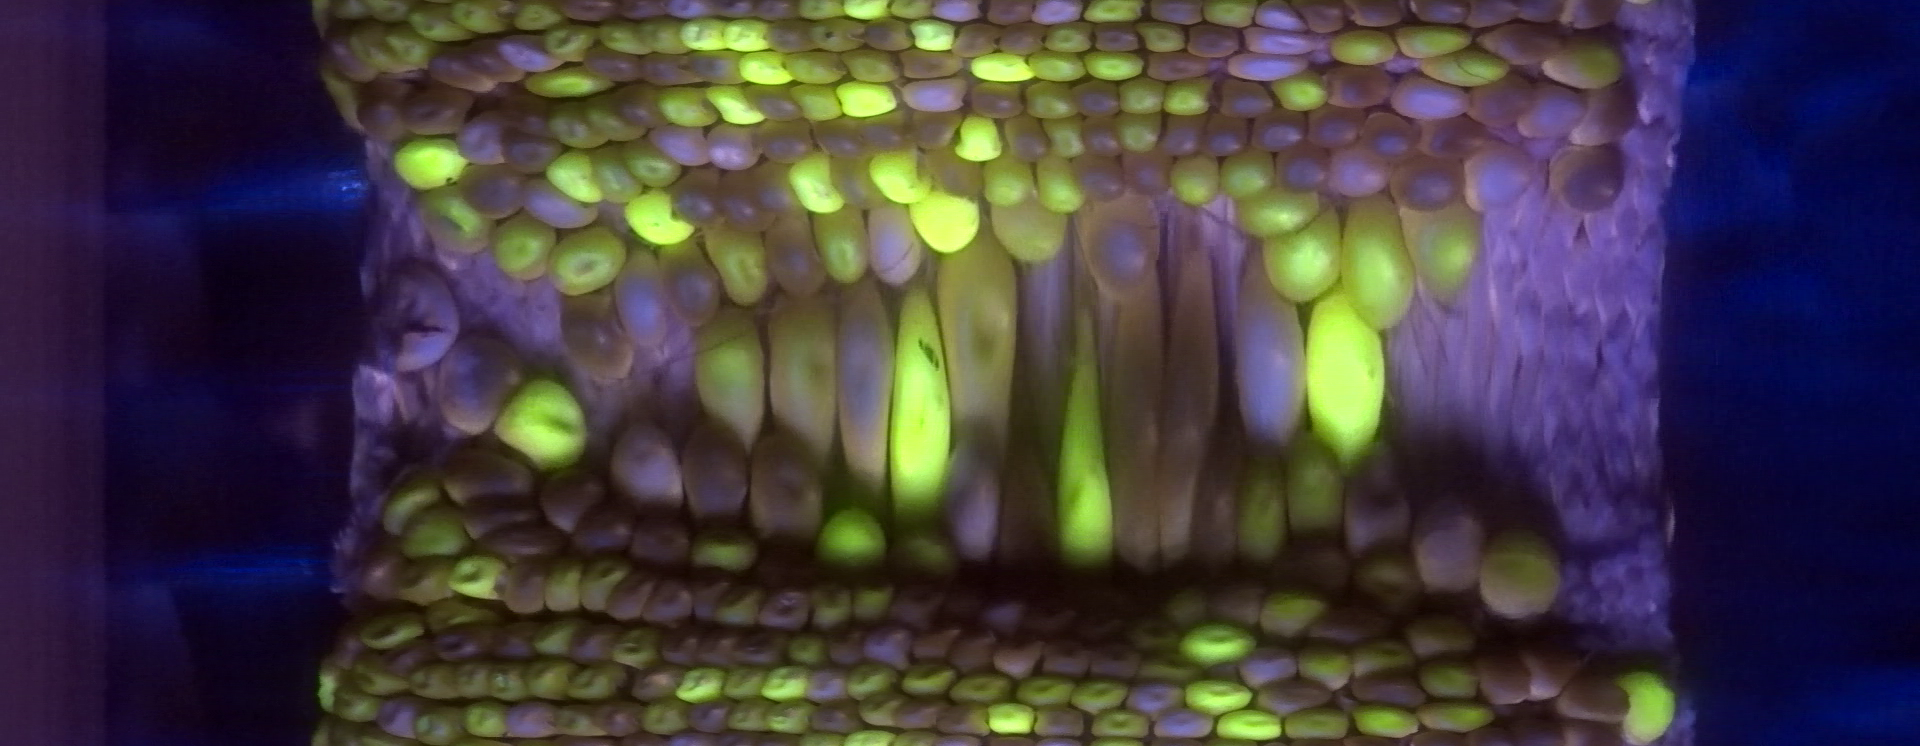fluorescent: (931, 213, 1025, 473), (1299, 279, 1391, 481), (885, 282, 956, 530), (1051, 334, 1122, 578), (760, 285, 849, 472), (689, 305, 778, 452), (1333, 192, 1420, 333), (1396, 195, 1485, 320), (489, 371, 591, 478), (1476, 526, 1570, 628), (1260, 201, 1348, 305), (1282, 428, 1349, 548), (1229, 450, 1296, 570), (697, 218, 773, 311), (539, 223, 629, 300), (413, 183, 504, 258), (811, 503, 895, 584), (984, 191, 1071, 265), (1229, 181, 1330, 243), (482, 207, 560, 285), (1607, 666, 1682, 746), (902, 184, 983, 258), (808, 198, 874, 289), (883, 523, 966, 594), (375, 467, 447, 548), (312, 47, 373, 138), (1540, 29, 1625, 96), (389, 134, 475, 196), (1256, 582, 1335, 649), (864, 142, 942, 209), (620, 186, 698, 251), (1174, 617, 1265, 673), (396, 502, 471, 566), (683, 522, 763, 582), (1416, 42, 1513, 89), (787, 148, 853, 217), (582, 142, 648, 209), (1029, 149, 1092, 219), (538, 145, 610, 206), (389, 549, 467, 605), (613, 134, 686, 191), (444, 549, 514, 608), (1217, 142, 1282, 205), (577, 91, 650, 146), (343, 17, 410, 77), (577, 550, 637, 616), (1164, 148, 1224, 212), (1417, 652, 1484, 708), (978, 148, 1037, 212), (1322, 24, 1401, 72), (700, 78, 771, 131), (420, 595, 507, 638), (1392, 20, 1479, 62), (1414, 696, 1504, 737), (522, 64, 620, 102), (545, 97, 613, 151), (1346, 696, 1425, 741), (356, 606, 430, 655), (1291, 639, 1356, 695), (1347, 632, 1419, 681), (402, 2, 481, 47), (378, 20, 448, 70), (651, 85, 721, 132), (830, 77, 904, 121), (948, 111, 1008, 165), (629, 13, 697, 61), (776, 47, 853, 88), (1180, 676, 1258, 718), (1267, 65, 1331, 115), (563, 659, 633, 704), (347, 650, 411, 698), (1128, 608, 1190, 657), (711, 581, 769, 633), (782, 78, 849, 124), (842, 658, 905, 706), (1160, 583, 1216, 636), (1212, 706, 1289, 744), (1282, 703, 1357, 742), (898, 658, 965, 701), (947, 668, 1020, 707), (538, 22, 602, 66), (593, 17, 659, 60), (1087, 702, 1160, 741), (540, 552, 585, 615), (1010, 673, 1084, 710), (1158, 73, 1220, 119), (1021, 77, 1082, 122), (804, 584, 860, 635), (1068, 675, 1134, 717), (671, 661, 733, 706), (731, 49, 798, 89), (520, 657, 580, 702), (609, 621, 661, 673), (806, 13, 874, 53), (836, 47, 905, 86), (545, 699, 613, 739), (1138, 649, 1212, 685), (1111, 110, 1166, 158), (849, 577, 896, 632), (442, 1, 513, 38), (1022, 48, 1089, 87), (456, 696, 514, 740), (327, 681, 387, 724), (967, 49, 1040, 85), (760, 696, 820, 737), (402, 661, 462, 703), (1114, 73, 1171, 118), (781, 627, 838, 671), (1080, 49, 1152, 83), (983, 696, 1041, 739), (1038, 114, 1091, 160), (718, 15, 775, 56), (309, 660, 351, 715), (484, 657, 533, 704), (853, 688, 911, 729), (757, 660, 814, 701), (410, 702, 463, 746), (530, 619, 585, 660), (905, 16, 961, 56), (507, 1, 576, 34), (637, 696, 692, 736), (1038, 20, 1098, 56), (449, 659, 496, 706), (1131, 20, 1190, 56), (675, 15, 731, 53), (722, 696, 776, 734), (720, 659, 769, 701), (1198, 1, 1259, 31), (1078, 1, 1147, 27), (359, 1, 413, 26), (793, 1, 851, 23), (836, 1, 894, 23), (839, 728, 904, 746), (887, 1, 937, 23)
nonfluorescent: (1231, 251, 1313, 463), (827, 269, 899, 500), (936, 418, 1011, 575), (1067, 191, 1168, 299), (432, 333, 529, 441), (747, 426, 827, 548), (600, 418, 691, 521), (1332, 457, 1414, 565), (1406, 496, 1488, 604), (673, 416, 754, 526), (553, 287, 636, 386), (654, 227, 726, 338), (609, 243, 678, 352), (436, 442, 536, 514), (757, 205, 834, 296), (1456, 141, 1538, 216), (860, 194, 924, 288), (1378, 152, 1469, 216), (1545, 138, 1625, 212), (350, 67, 420, 149), (533, 463, 611, 535), (396, 70, 471, 142), (1460, 638, 1534, 709), (451, 157, 531, 222), (1567, 78, 1640, 149), (517, 171, 602, 229), (1382, 70, 1476, 122), (1469, 20, 1569, 69), (470, 521, 572, 568), (422, 39, 502, 99), (1515, 76, 1587, 141), (1551, 670, 1632, 728), (624, 516, 696, 581), (1322, 142, 1393, 205), (1456, 70, 1537, 124), (1412, 110, 1494, 163), (571, 501, 638, 565), (1266, 138, 1338, 196), (640, 118, 715, 173), (718, 167, 778, 235), (454, 492, 542, 539), (489, 24, 569, 75), (451, 107, 516, 169), (464, 29, 530, 89), (917, 145, 986, 202), (1356, 105, 1420, 164), (741, 159, 807, 217), (751, 116, 820, 170), (1346, 665, 1427, 712), (1319, 64, 1397, 111), (1520, 641, 1576, 707), (666, 170, 729, 229), (492, 82, 557, 138), (804, 114, 874, 165), (1245, 105, 1310, 160), (493, 126, 564, 176), (349, 541, 408, 601), (601, 566, 661, 625), (828, 154, 889, 212), (1067, 148, 1129, 205), (577, 39, 647, 89), (610, 81, 676, 134), (429, 620, 500, 668), (736, 77, 808, 124), (699, 119, 763, 171), (1298, 100, 1364, 151), (1233, 643, 1304, 690), (1251, 677, 1332, 718), (998, 109, 1054, 167), (940, 622, 998, 679), (856, 107, 921, 156), (1236, 20, 1319, 58), (632, 45, 699, 92), (1200, 108, 1254, 165), (638, 573, 697, 626), (986, 631, 1044, 684), (500, 691, 560, 742), (1117, 148, 1179, 197), (860, 620, 917, 673), (564, 619, 623, 670), (502, 557, 551, 619), (896, 73, 970, 114), (818, 617, 876, 669), (905, 104, 965, 153), (1156, 108, 1210, 162), (798, 660, 857, 709), (684, 43, 746, 89), (964, 77, 1030, 120), (1082, 642, 1145, 687), (1145, 704, 1216, 744), (756, 584, 811, 635), (732, 625, 789, 674), (1213, 75, 1277, 118), (373, 695, 433, 740), (887, 687, 947, 733), (693, 620, 744, 673), (909, 619, 960, 671), (858, 13, 917, 59), (887, 581, 942, 628), (1122, 677, 1188, 717), (489, 619, 542, 666), (653, 620, 707, 668), (1029, 699, 1087, 742), (1067, 78, 1127, 120), (1553, 1, 1622, 37), (1182, 20, 1243, 60), (1140, 49, 1215, 82), (1036, 642, 1093, 685), (895, 45, 969, 78), (687, 571, 732, 624), (1336, 1, 1409, 33), (1076, 113, 1125, 160), (380, 638, 437, 679), (1091, 17, 1145, 60), (1287, 2, 1349, 37), (950, 21, 1004, 60), (684, 696, 735, 737), (1402, 1, 1473, 31), (933, 702, 992, 737), (996, 20, 1047, 60), (1249, 1, 1308, 36), (1141, 1, 1212, 29), (808, 698, 861, 733), (1463, 1, 1524, 31), (923, 1, 989, 28), (978, 1, 1037, 29), (1507, 1, 1569, 27), (1029, 1, 1089, 27)
